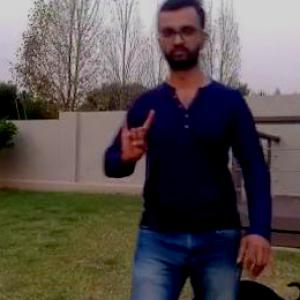takeoff-hand: (110, 102, 163, 166)
